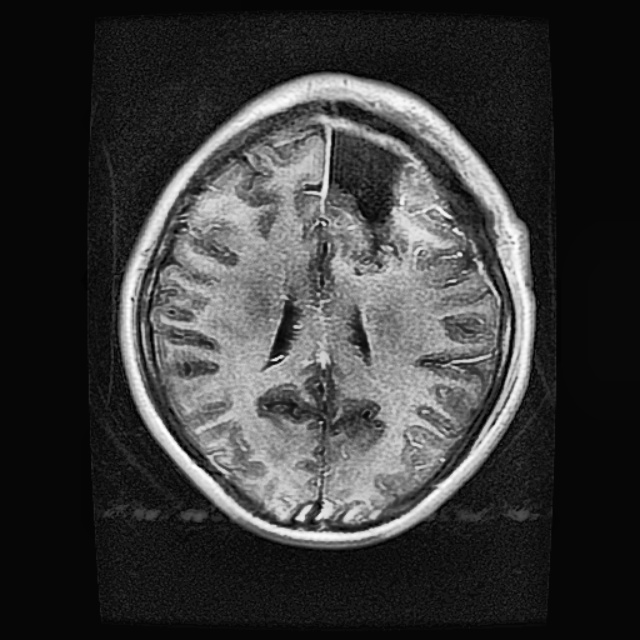Glioma: (300, 128, 410, 275)
